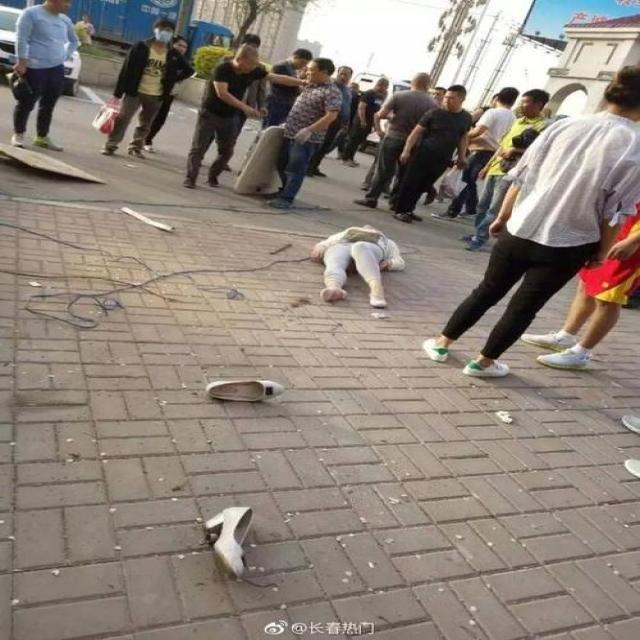10-: (9, 2, 639, 395)
down: (290, 218, 420, 312)
